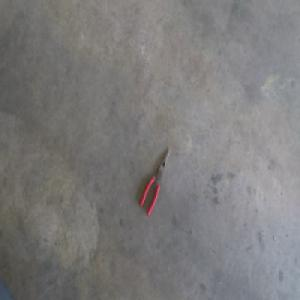Pliers: (139, 142, 170, 211)
